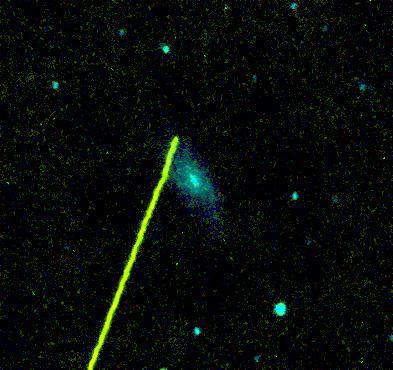star: (158, 129, 188, 159)
